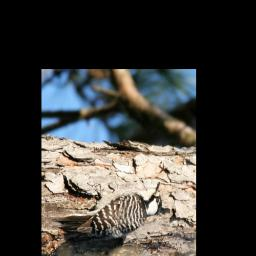Woodpecker: (52, 181, 162, 239)
